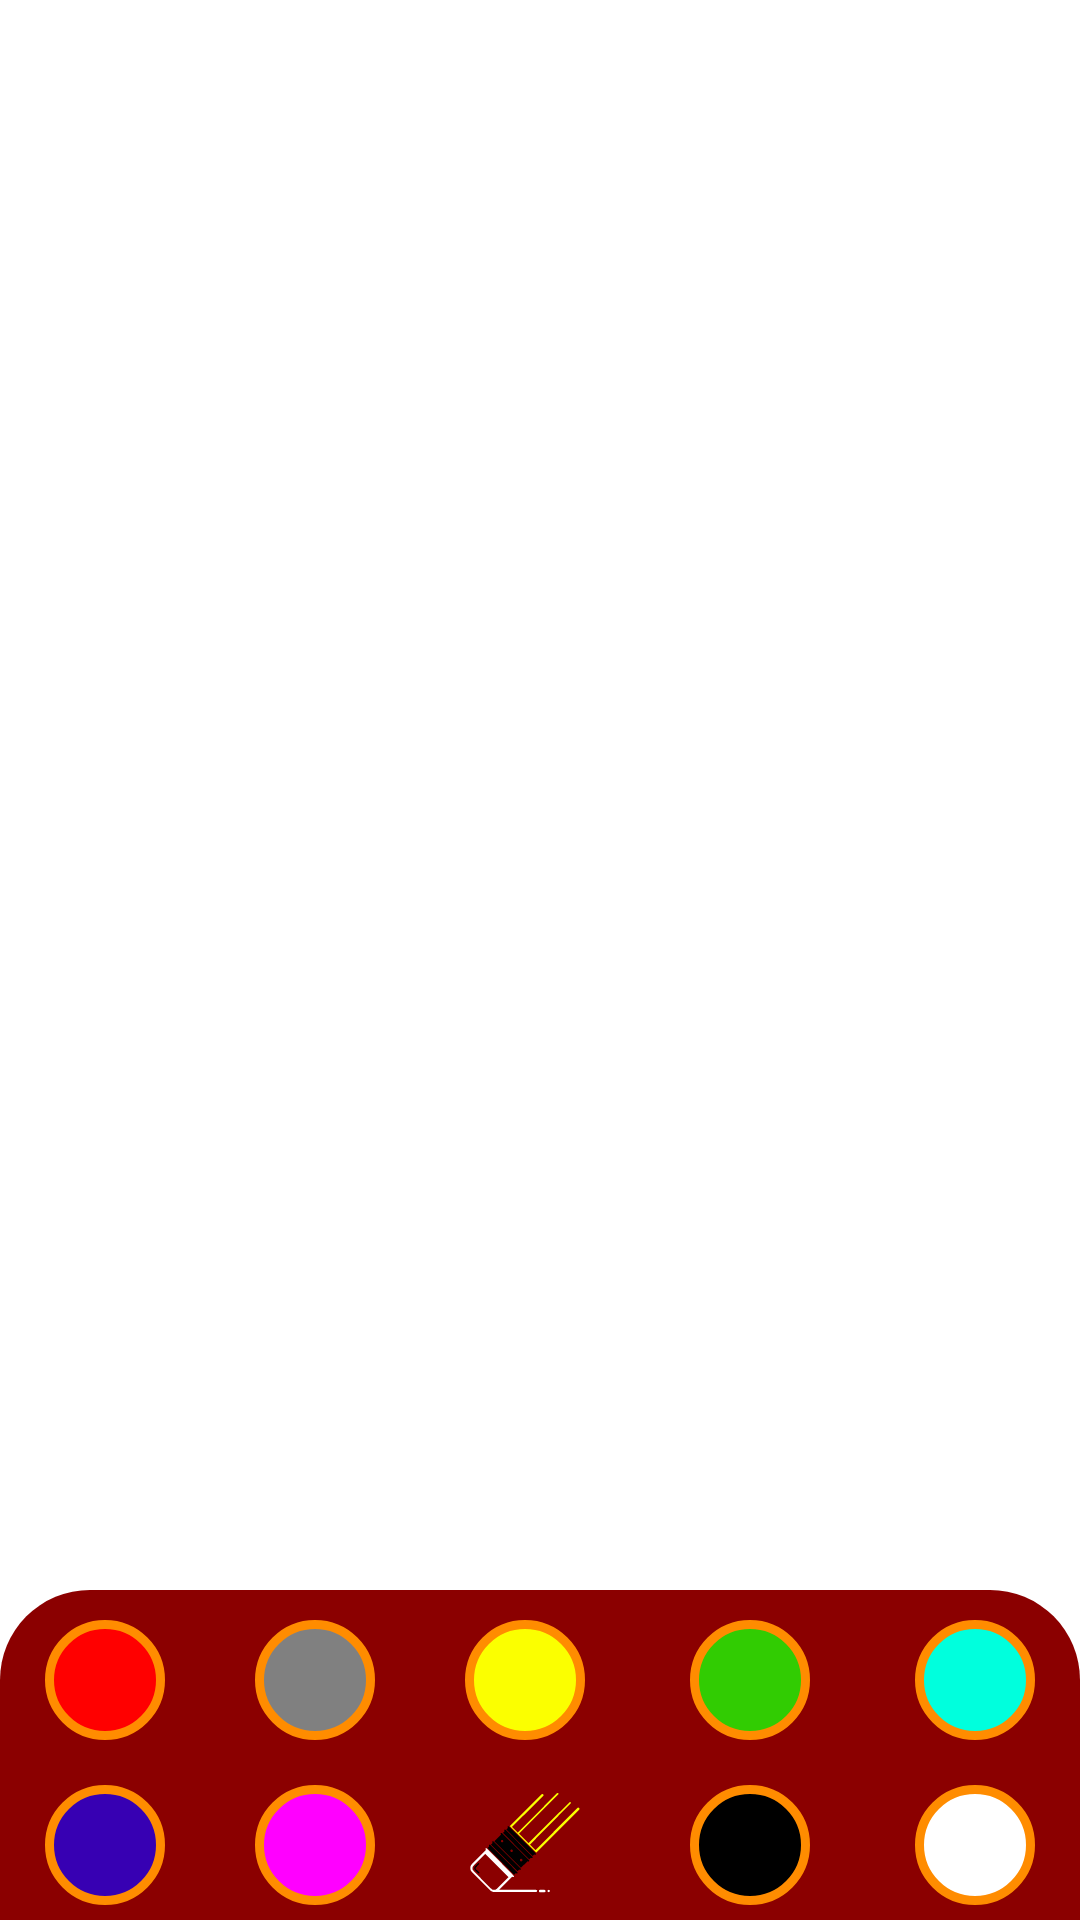

Point at icon controls on the screen. Image size 1080 × 1920, points as [x,y].
eraser: [525,1843]
